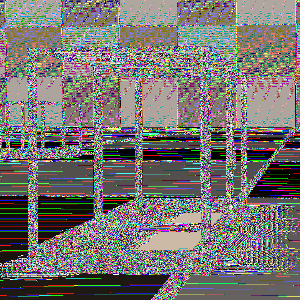Rack: (26, 44, 248, 276)
